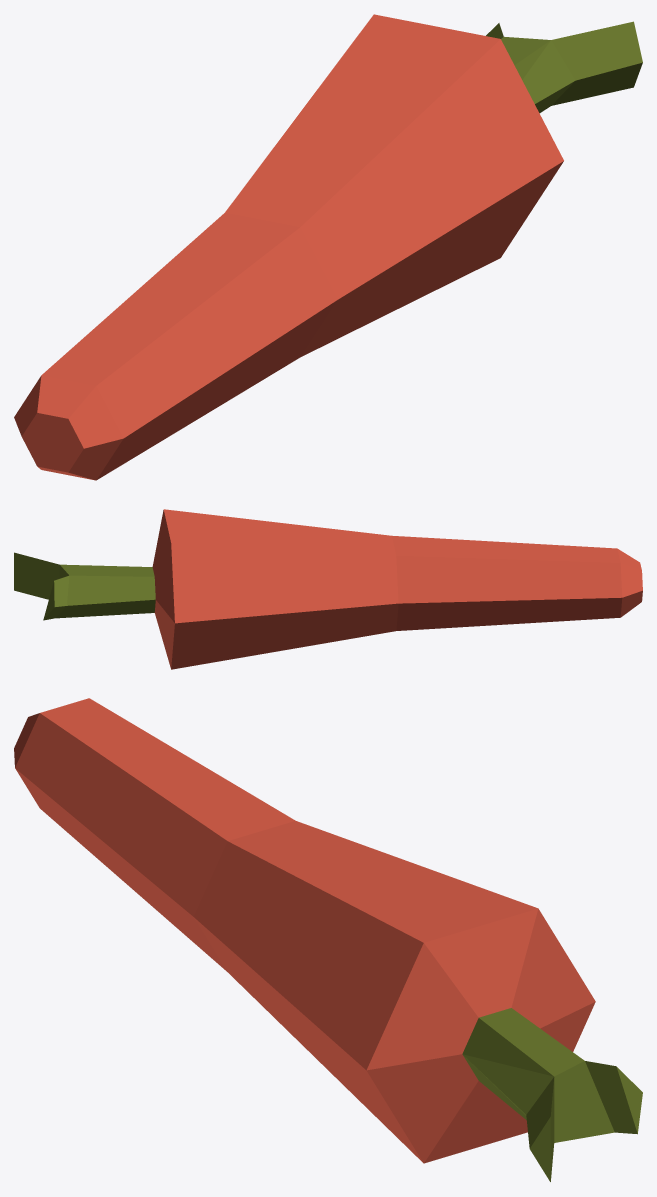
Rendered from EA03_Items_House_Carrot_01a.glb.
3 views of the same model, one above another, from view 1: azimuth 30°, elevation 25°; view 2: azimuth 150°, elevation 25°; view 3: azimuth 270°, elevation 25° (orthographic). The views are drawn at different scales.
Parts seen in each view (by area): view 1: EA03_Items_House_Carrot_01a; view 2: EA03_Items_House_Carrot_01a; view 3: EA03_Items_House_Carrot_01a.
Part boxes in pixels (x1,y1,x2,y2): EA03_Items_House_Carrot_01a: (14, 14, 642, 480); EA03_Items_House_Carrot_01a: (14, 509, 642, 669); EA03_Items_House_Carrot_01a: (14, 698, 642, 1181).
Size of the model in its own units: 0.3195 by 0.0786 by 0.2031.
1 material, 1 textured.
